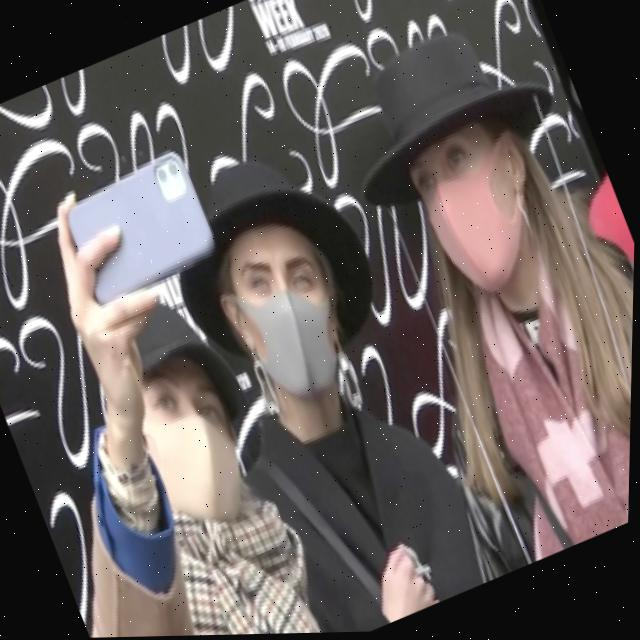Mask: (404, 119, 573, 318), (209, 235, 366, 416), (123, 362, 268, 548)
